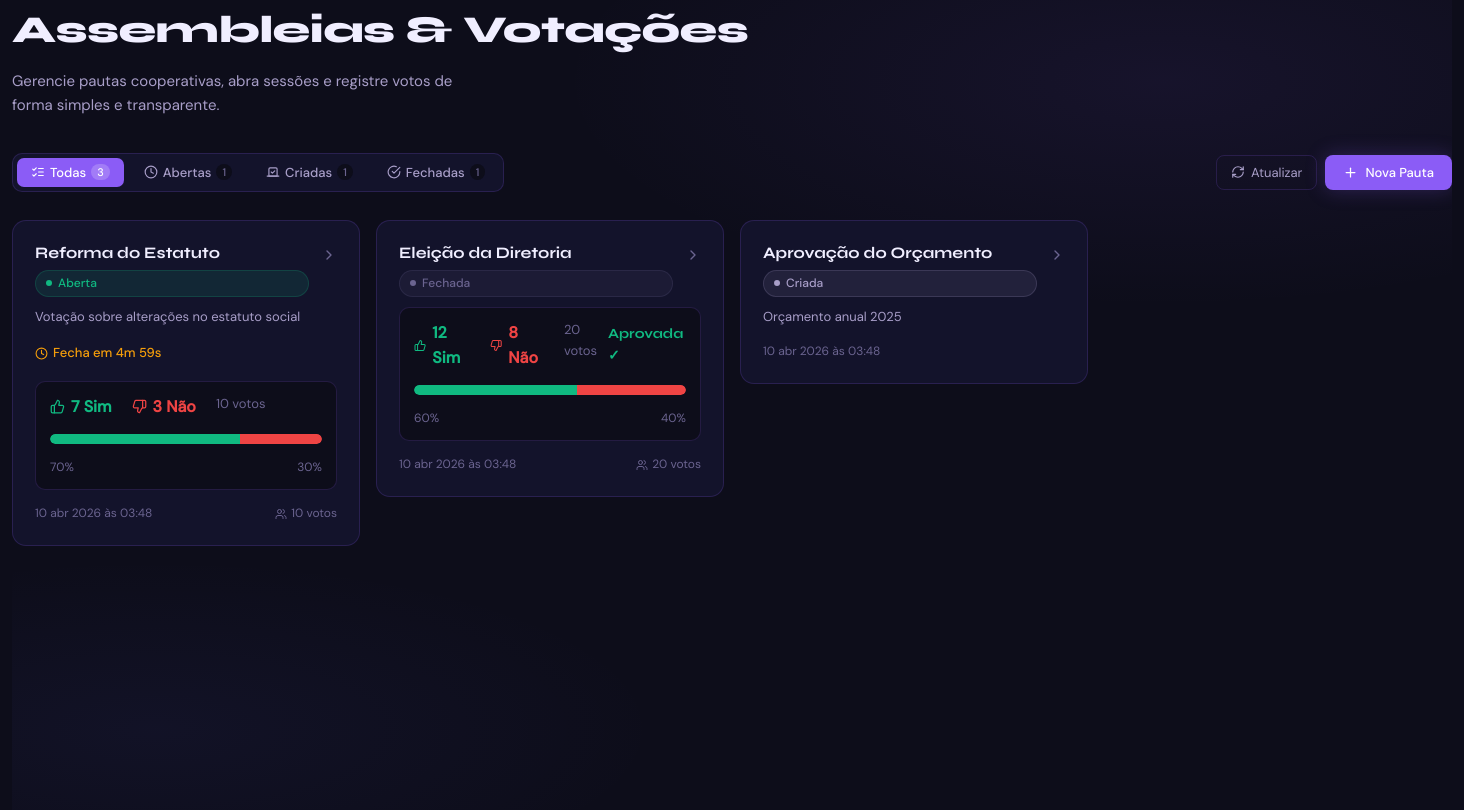
Test: HomePage › filters agendas by OPEN status
Expected: the heading "Reforma do Estatuto" is shown, [35,243,220,262]
Click the button "Abertas 1": (188, 172) [130,158,246,187]
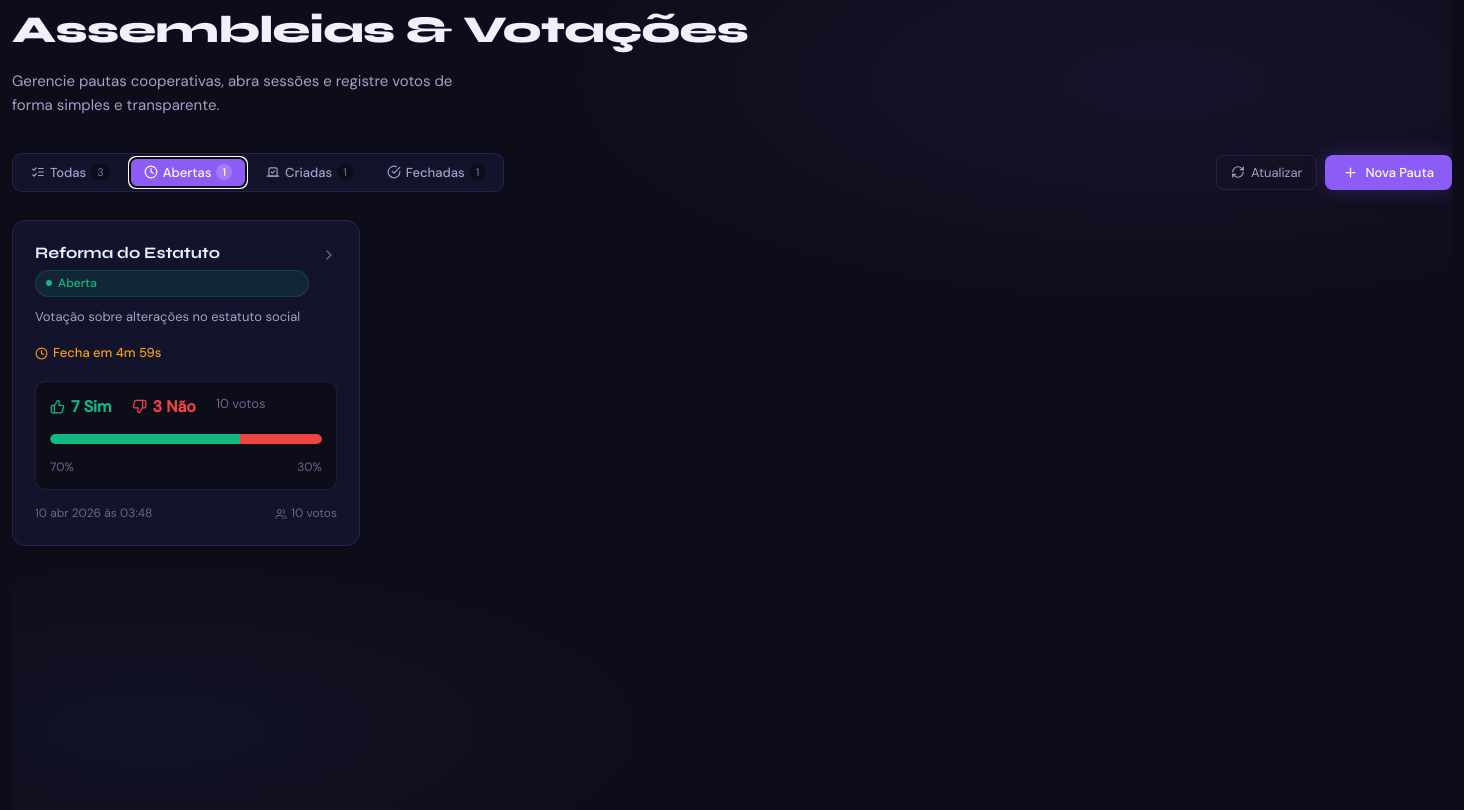
Expected: the heading "Reforma do Estatuto" is shown, [35,243,220,262]
Result: the heading "Eleição da Diretoria" is gone
